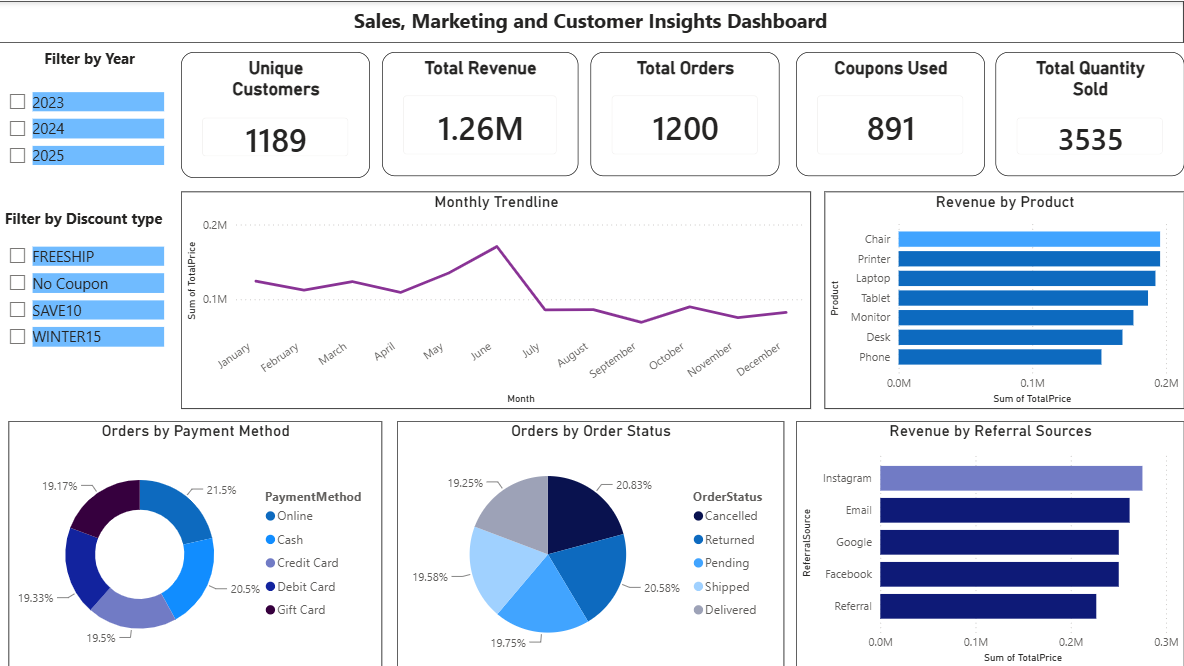

What the dashboard file says about the page in this screenshot:
{"tool":"powerbi","page":{"name":"Dashboard","canvas":[1280,720],"ordinal":0},"visuals":[{"type":"cardVisual","title":" Unique Customers","fields":{"Data":["Count(Sales_dataset.CustomerID)"]},"box":[198,55,204,136],"z":0},{"type":"cardVisual","title":"Total Revenue","fields":{"Data":["Sum(Sales_dataset.TotalPrice)"]},"box":[415,55,212,134],"z":1000},{"type":"cardVisual","title":"Total Orders","fields":{"Data":["Count(Sales_dataset.OrderID)"]},"box":[640,55,204,134],"z":2000},{"type":"cardVisual","title":"Coupons Used","fields":{"Data":["Sales_dataset.Coupon Used"]},"box":[861,55,204,134],"z":3000},{"type":"cardVisual","title":"Total Quantity Sold","fields":{"Data":["Sum(Sales_dataset.Quantity)"]},"box":[1077,55,204,134],"z":4000},{"type":"lineChart","title":"Monthly Trendline","fields":{"Category":["Sales_dataset.Date.Variation.Date Hierarchy.Month"],"Y":["Sum(Sales_dataset.TotalPrice)"]},"box":[197.5,205.6,680.1,234.8],"z":5000},{"type":"barChart","title":"Revenue by Product","fields":{"Category":["Sales_dataset.Product"],"Y":["Sum(Sales_dataset.TotalPrice)"]},"box":[892.2,205.6,388.6,234.8],"z":6000},{"type":"donutChart","title":"Orders by Payment Method","fields":{"Category":["Sales_dataset.PaymentMethod"],"Y":["CountNonNull(Sales_dataset.OrderID)"]},"box":[11.3,453.4,403.2,267.2],"z":7000},{"type":"pieChart","title":"Orders by Order Status","fields":{"Category":["Sales_dataset.OrderStatus"],"Y":["CountNonNull(Sales_dataset.OrderID)"]},"box":[430.7,453.4,417.8,267.2],"z":8000},{"type":"barChart","title":"Revenue by Referral Sources","fields":{"Category":["Sales_dataset.ReferralSource"],"Y":["Sum(Sales_dataset.TotalPrice)"]},"box":[861.4,453.4,419.4,267.2],"z":9000},{"type":"textbox","box":[0,0,1280,45],"z":10000},{"type":"slicer","fields":{"Values":["Sales_dataset.Year"]},"box":[0,89.1,184.6,116.6],"z":11000},{"type":"slicer","fields":{"Values":["Sales_dataset.CouponCode"]},"box":[0,255.8,184.6,184.6],"z":12000},{"type":"textbox","box":[0,218.6,184.6,38.9],"z":12001},{"type":"textbox","box":[0,45.3,197.5,43.7],"z":12002}]}

Visuals, with their boxes in screenshot pixels (x1, y1, x2, y2), scaled from the page's 1280x720 canvas onto the 1184x666 screenshot:
" Unique Customers" cardVisual: crop(183, 51, 372, 177)
"Total Revenue" cardVisual: crop(384, 51, 580, 175)
"Total Orders" cardVisual: crop(592, 51, 781, 175)
"Coupons Used" cardVisual: crop(796, 51, 985, 175)
"Total Quantity Sold" cardVisual: crop(996, 51, 1183, 175)
"Monthly Trendline" lineChart: crop(183, 190, 812, 407)
"Revenue by Product" barChart: crop(825, 190, 1183, 407)
"Orders by Payment Method" donutChart: crop(10, 419, 383, 665)
"Orders by Order Status" pieChart: crop(398, 419, 785, 665)
"Revenue by Referral Sources" barChart: crop(797, 419, 1183, 665)
textbox: crop(0, 0, 1183, 42)
slicer - Sales_dataset.Year: crop(0, 82, 171, 190)
slicer - Sales_dataset.CouponCode: crop(0, 237, 171, 407)
textbox: crop(0, 202, 171, 238)
textbox: crop(0, 42, 183, 82)
